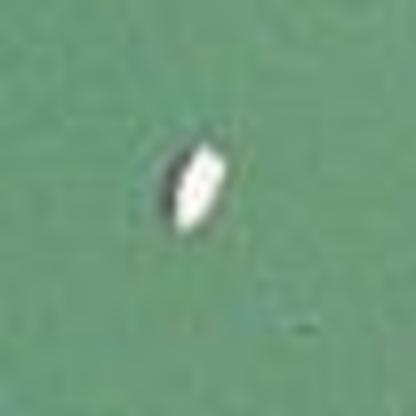ship: (148, 128, 244, 244)
